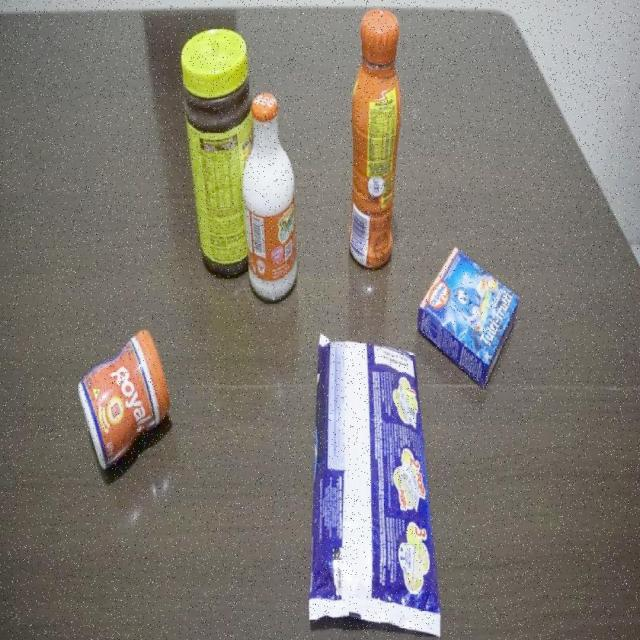ChocolateMilk: (346, 8, 404, 276)
ChocolatePowder: (178, 27, 256, 284)
CoconutMilk: (241, 93, 301, 308)
Gelatine: (418, 247, 523, 391)
Popcorn: (308, 332, 442, 639)
Yeast: (76, 325, 172, 473)
